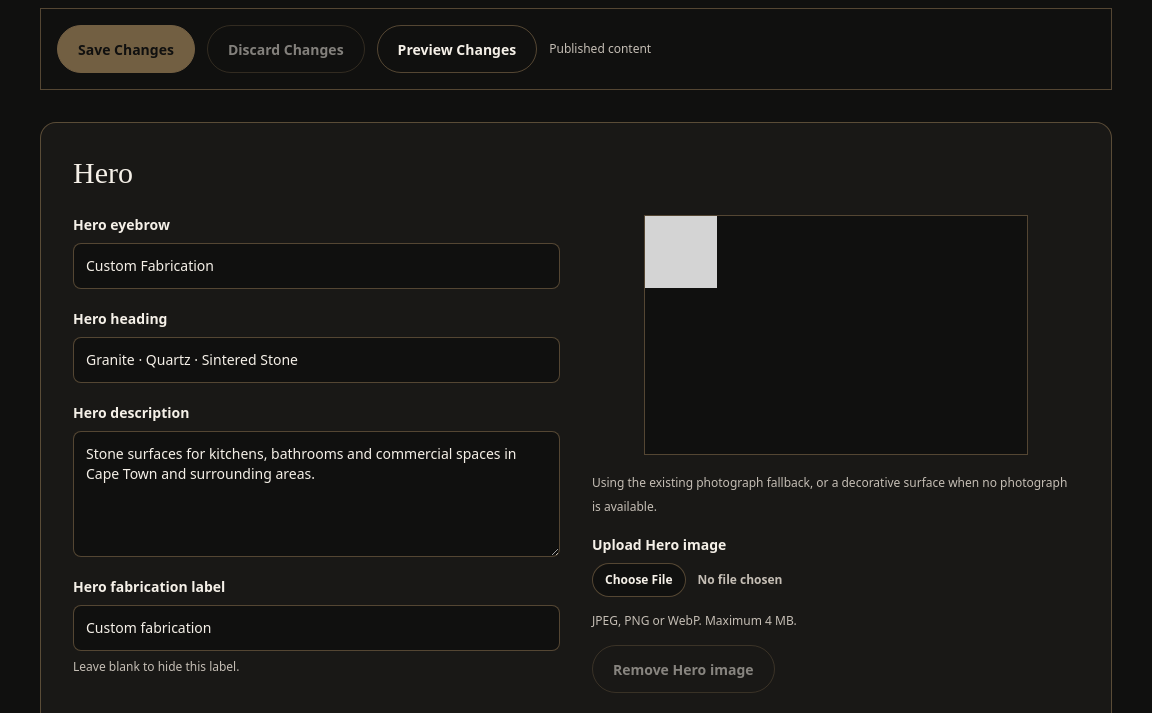
Test: homepage editor interactions › retains edits when a revision conflict is returned
The width and height of the screenshot is (1152, 713).
(page scrolled)
In the field labelled "Hero heading": (316, 360) [73,337,560,383], type " revised"
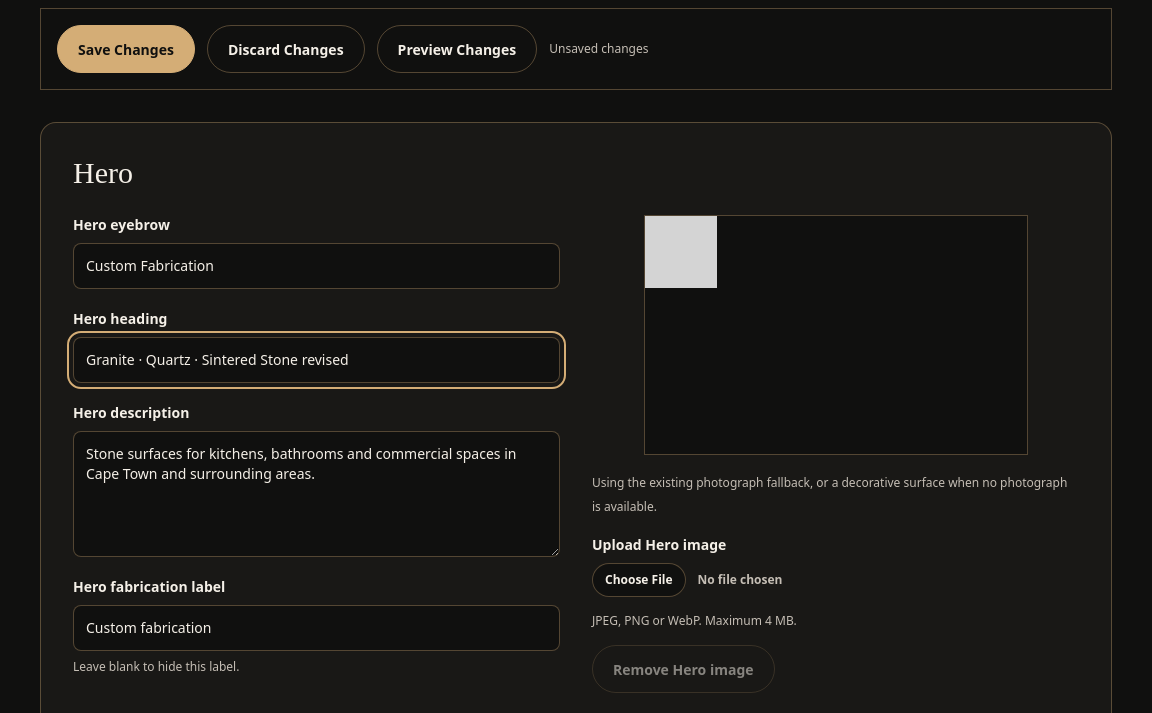
Click the button "Save Changes": (126, 49) [57,25,195,73]
(page scrolled)
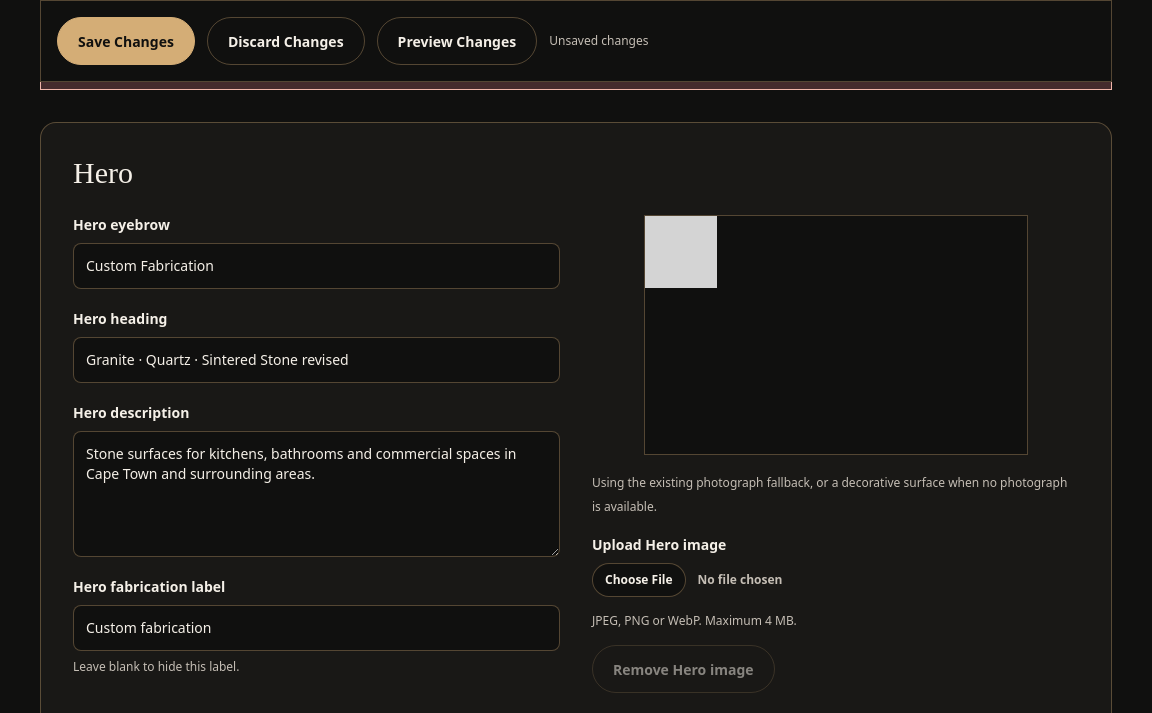
Result: the button "Save Changes" is enabled at [57,17,195,65]
Result: the 1st message shows "changed since you opened it" at [57,50,915,72]
